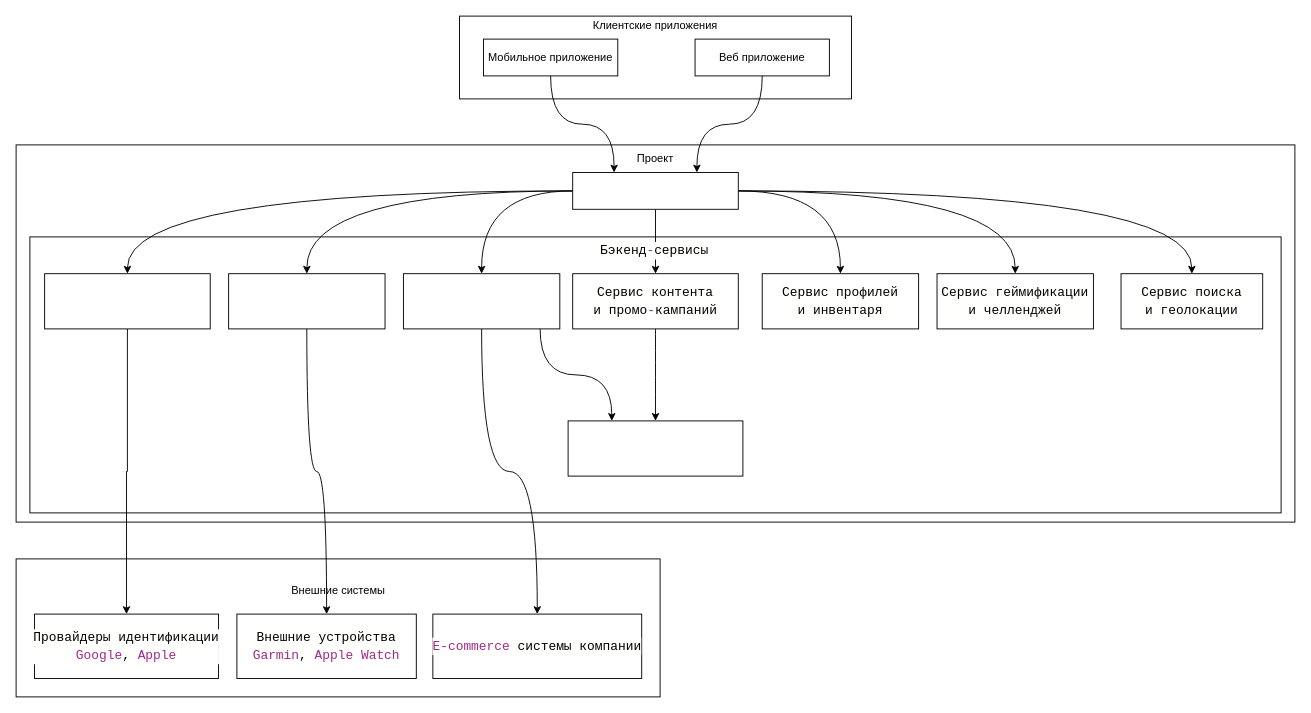
Image size: 1311x713. Some labels were removed from this diagram. Each missing label, with the box of its shape:
API Gateway / Edge Router: (572, 172, 738, 209)
Сервис аутентификации и авторизации: (44, 273, 210, 329)
Сервис рекомендаций: (402, 273, 560, 329)
Сервис тренировок и трекинга: (228, 273, 385, 329)
Сервис уведомлений: (567, 420, 743, 476)
